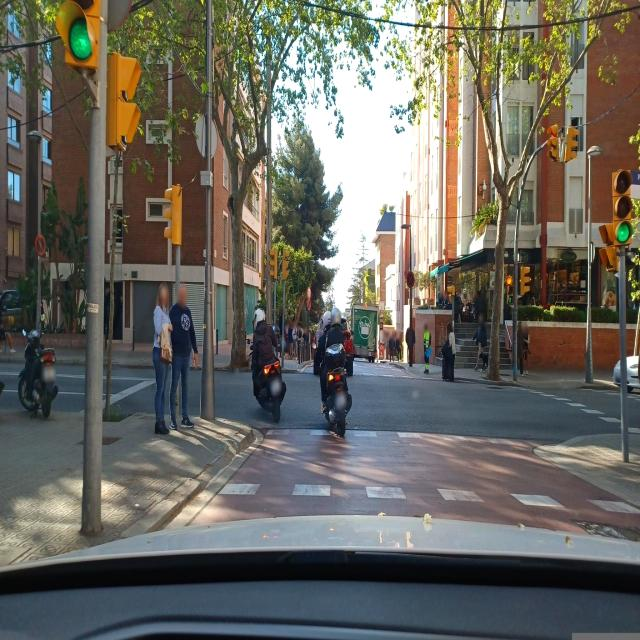bike: (17, 320, 58, 419), (250, 332, 287, 426), (316, 351, 352, 440)
car: (615, 353, 640, 392)
